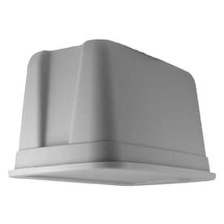plastic_box: (0, 32, 221, 196)
